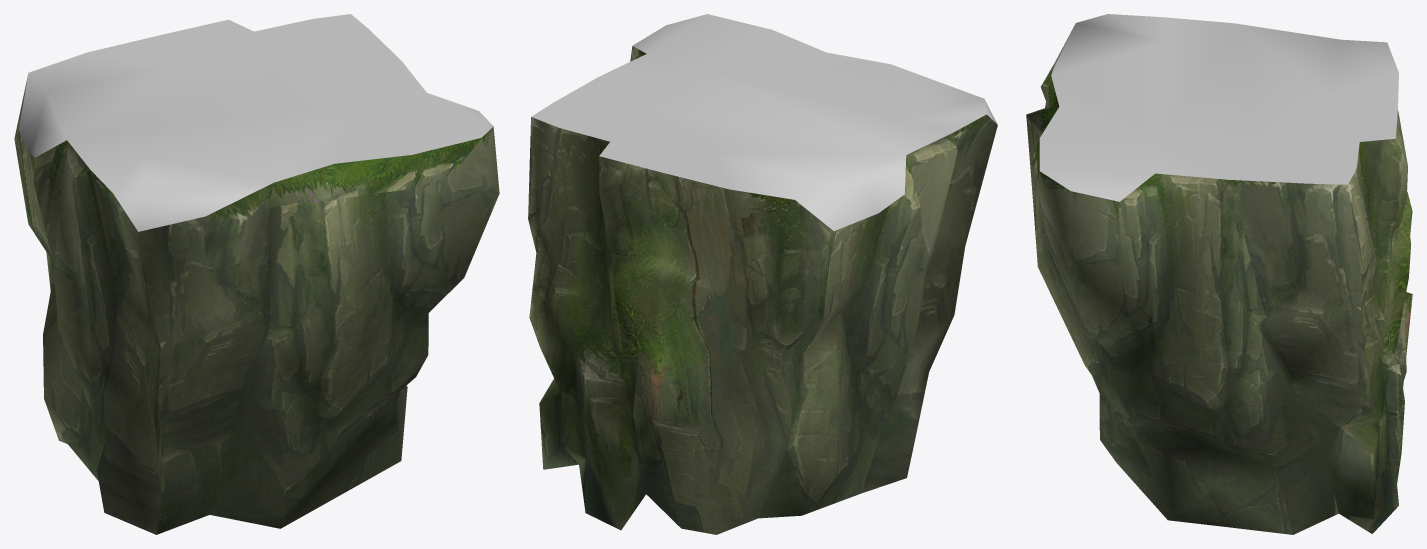
Rendered from Map01_XiaoShanTi.FBX.
3 views of the same model, side by side, from view 1: azimuth 30°, elevation 25°; view 2: azimuth 150°, elevation 25°; view 3: azimuth 270°, elevation 25° (orthographic). The views are drawn at different scales.
Visible parts, largest first — view 1: Map01_Shan_03, Map01_DiBiao_01; view 2: Map01_Shan_03, Map01_DiBiao_01; view 3: Map01_Shan_03, Map01_DiBiao_01.
Part boxes in pixels (x1,y1,x2,y2): Map01_Shan_03: (14, 77, 499, 534); Map01_DiBiao_01: (19, 14, 493, 231); Map01_Shan_03: (528, 46, 997, 534); Map01_DiBiao_01: (531, 14, 997, 230); Map01_Shan_03: (1026, 63, 1412, 534); Map01_DiBiao_01: (1039, 14, 1398, 201).
Bounding box in the file's own units: 3005 × 2984 × 2730.
